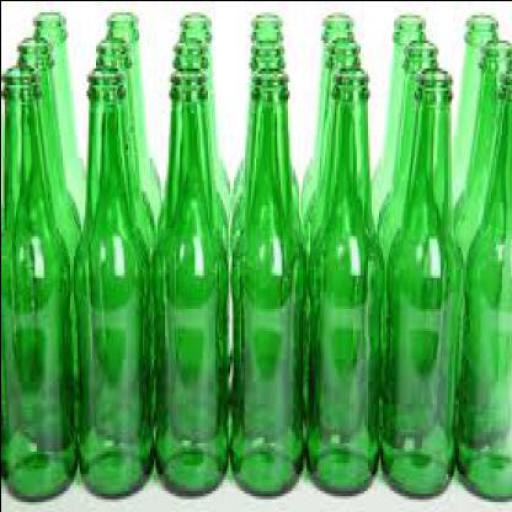glass: (382, 62, 465, 494), (307, 64, 386, 492), (76, 64, 152, 496), (2, 62, 77, 498), (152, 64, 228, 492), (231, 64, 307, 492), (458, 56, 511, 498), (229, 38, 301, 252), (16, 33, 82, 257), (374, 36, 440, 258), (95, 34, 155, 249), (169, 33, 227, 255), (455, 36, 511, 260), (233, 9, 300, 193), (370, 11, 426, 227), (307, 34, 361, 252), (35, 8, 88, 227), (108, 8, 162, 218), (180, 8, 231, 216), (302, 8, 352, 216), (450, 11, 499, 211)
